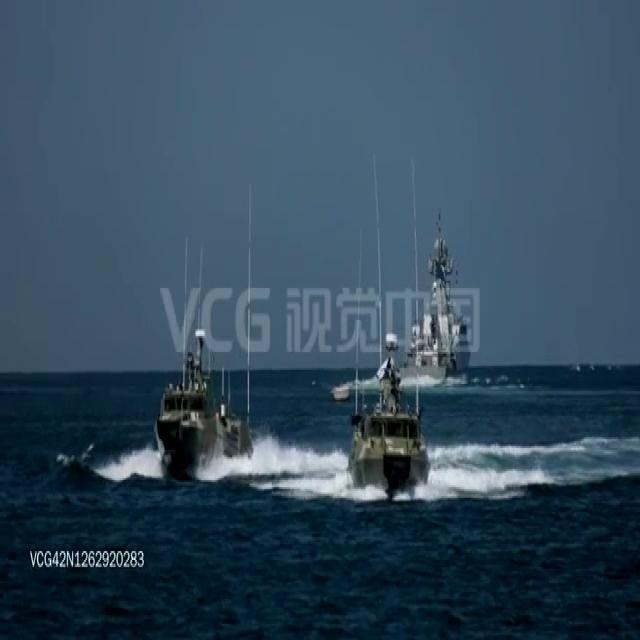houseboat: (156, 325, 252, 475), (346, 346, 426, 495)
navalvessels: (406, 231, 473, 383)
